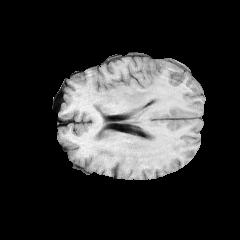glioma: (91, 79, 170, 108)
